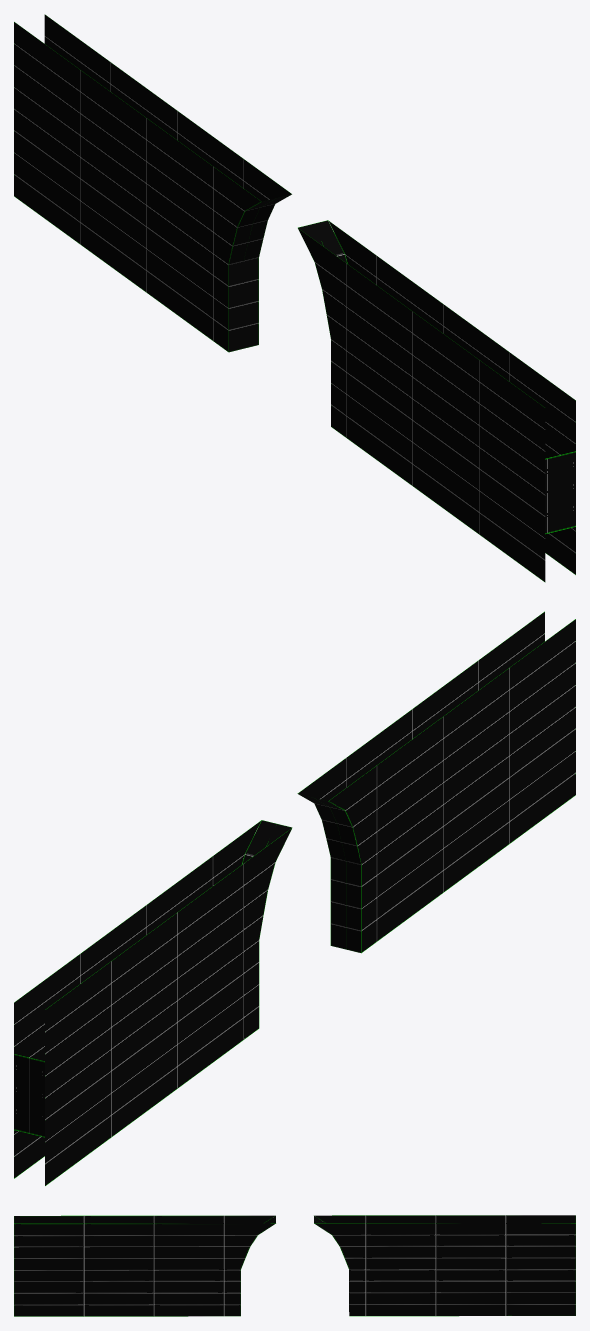
The model's file is door wall test.FBX.
The picture shows the model from 3 angles, top to bottom: view 1: azimuth 30°, elevation 25°; view 2: azimuth 150°, elevation 25°; view 3: azimuth 270°, elevation 25°; orthographic projection. The views are drawn at different scales.
Parts seen in each view (by area): view 1: Box001; view 2: Box001; view 3: Box001.
Boxes of the visible parts, x1,y1,x2,y2 form: Box001: (14, 14, 575, 582); Box001: (14, 611, 575, 1185); Box001: (14, 1215, 575, 1316).
Bounding box in the file's own units: 4.24 × 21.34 × 117.
